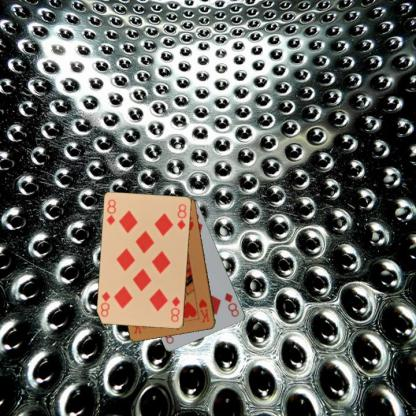8d: (222, 290, 240, 318), (168, 294, 182, 324), (104, 197, 117, 227)
Kh: (196, 297, 211, 324)
